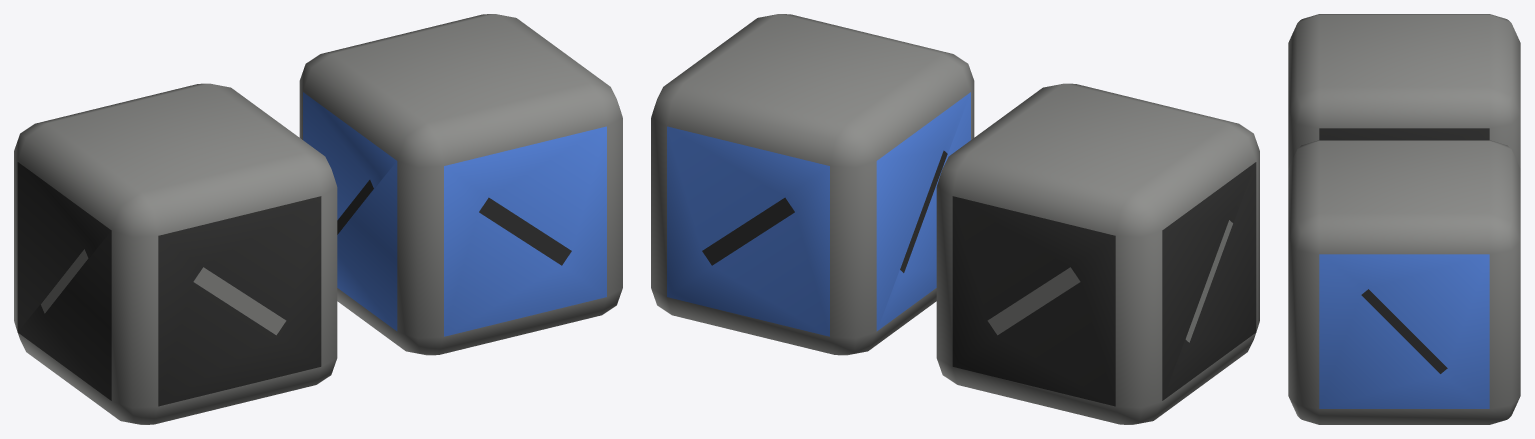
File: Round the world_Block.fbx
3 views of the same model, side by side, from view 1: azimuth 30°, elevation 25°; view 2: azimuth 150°, elevation 25°; view 3: azimuth 270°, elevation 25° (orthographic). The views are drawn at different scales.
Visible parts, largest first — view 1: Cube.004, Cube.002; view 2: Cube.004, Cube.002; view 3: Cube.002, Cube.004.
Boxes of the visible parts, left/top/right/bottom form: Cube.004: left=14, top=83, right=337, bottom=424; Cube.002: left=299, top=14, right=622, bottom=355; Cube.004: left=936, top=83, right=1259, bottom=424; Cube.002: left=651, top=14, right=974, bottom=355; Cube.002: left=1288, top=140, right=1520, bottom=424; Cube.004: left=1288, top=14, right=1520, bottom=168.
Bounding box in the file's own units: 39.25 × 17.18 × 17.18.
